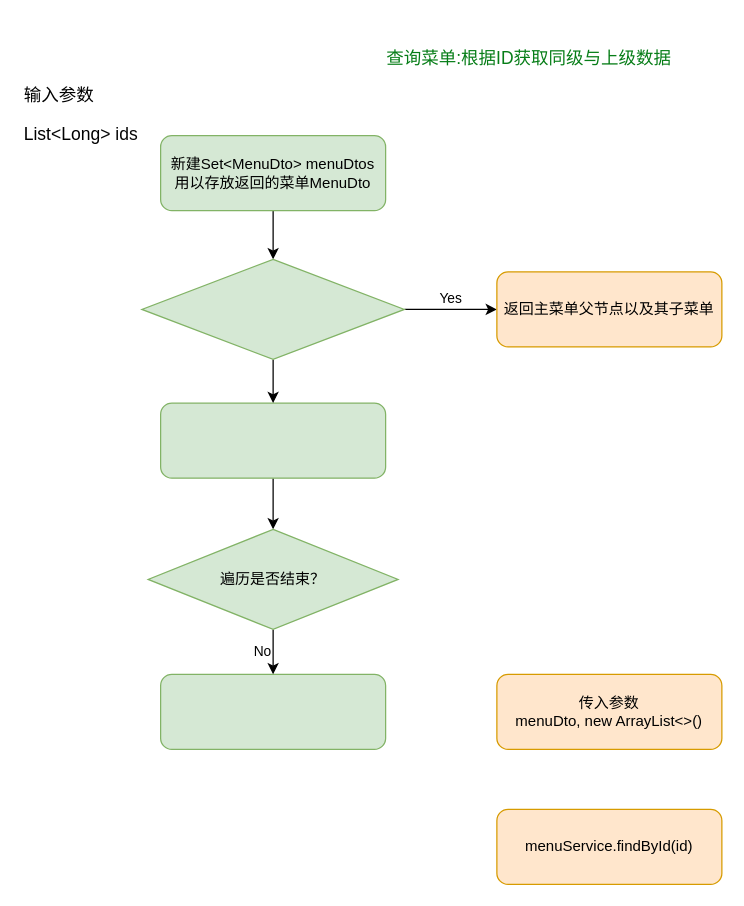
The diagram is 744 pixels wide and 906 high, and some of its shapes have lost their labels. Here are the shapes that lost their labels. From the top down, the centre of each, then its label:
(x=272, y=308): ids是否为空？
(x=272, y=440): 遍历id : ids
(x=272, y=711): 根据id找到该菜单实体menuDto
